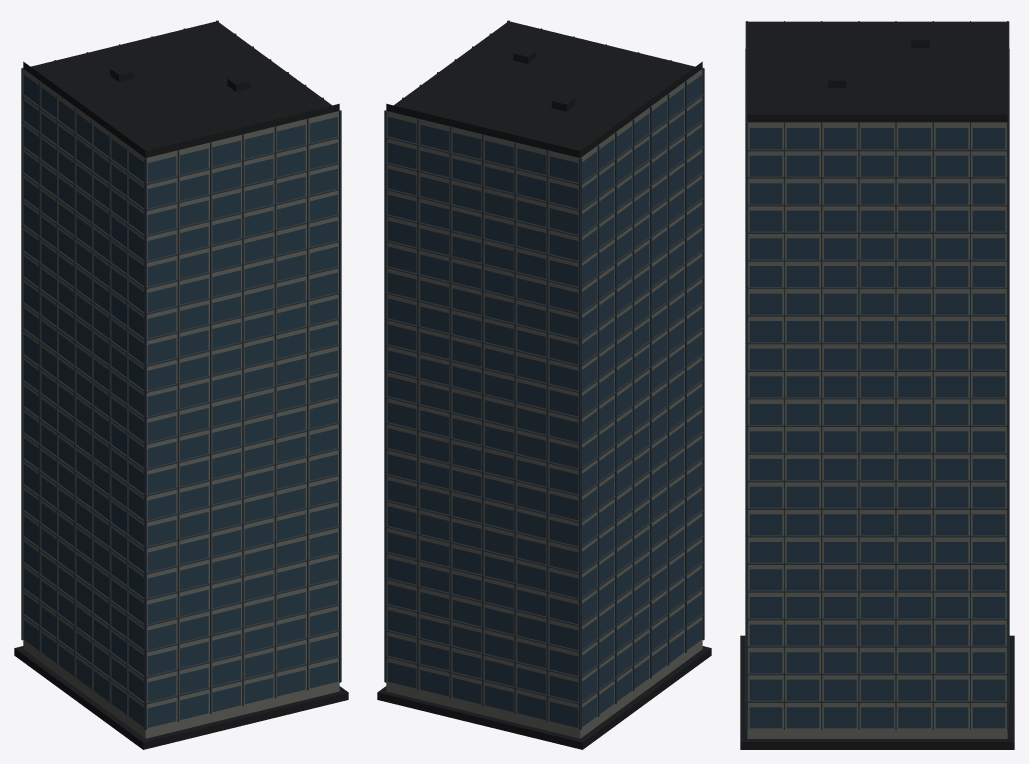
The model's file is office-01.glb.
3 renders of one model, left to right at view 1: azimuth 30°, elevation 25°; view 2: azimuth 150°, elevation 25°; view 3: azimuth 270°, elevation 25°, orthographic. The views are drawn at different scales.
Visible parts, largest first — view 1: glass-office; view 2: glass-office; view 3: glass-office.
Boxes of the visible parts, bbox=[...] form: glass-office: bbox=[14, 20, 348, 749]; glass-office: bbox=[377, 20, 711, 749]; glass-office: bbox=[740, 21, 1014, 749].
Bounding box in the file's own units: 33.05 × 92.7 × 35.97.
